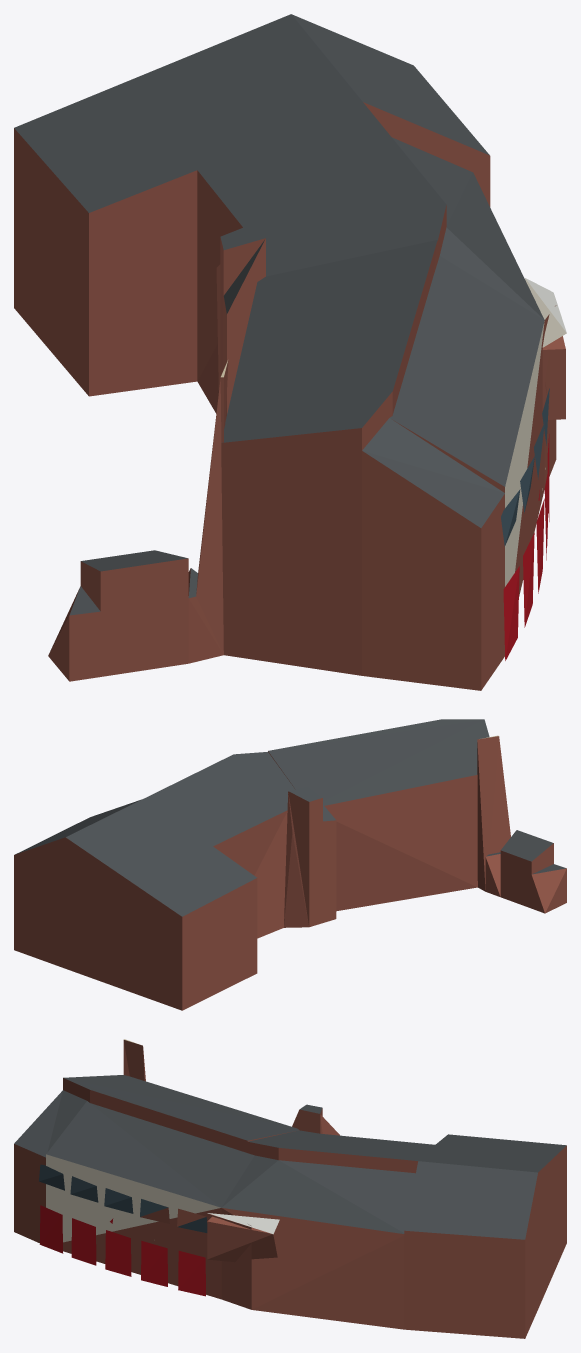
The model's file is fire-station-hendrik.lod2.glb.
3 views of the same model, one above another, from view 1: azimuth 30°, elevation 25°; view 2: azimuth 150°, elevation 25°; view 3: azimuth 270°, elevation 25° (orthographic). The views are drawn at different scales.
Parts seen in each view (by area): view 1: lod2; view 2: lod2; view 3: lod2.
Boxes of the visible parts, box(x1,y1,x2,y2) form: lod2: box(14, 14, 566, 690); lod2: box(14, 719, 566, 1010); lod2: box(14, 1039, 566, 1338).
Bounding box in the file's own units: 45.85 × 17.32 × 57.54.
